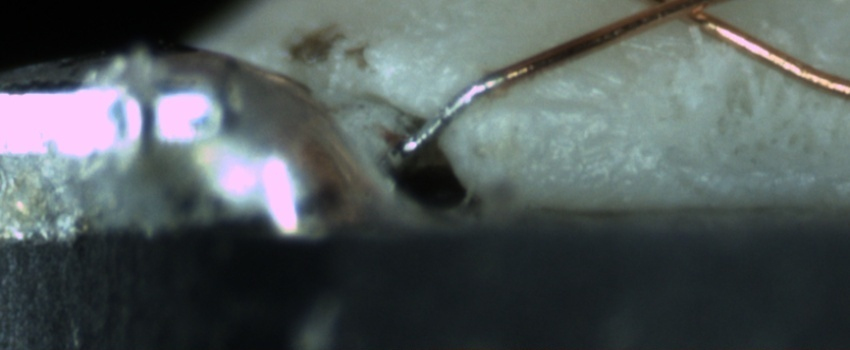CL: (614, 1, 748, 37)
DL: (475, 83, 613, 128)
TS: (380, 73, 506, 172)
TTCW: (399, 46, 549, 156)
